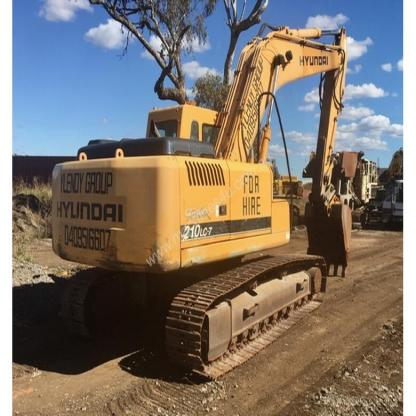excavator: (46, 7, 360, 374)
